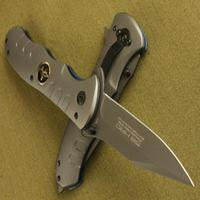knife: (3, 23, 196, 189)
